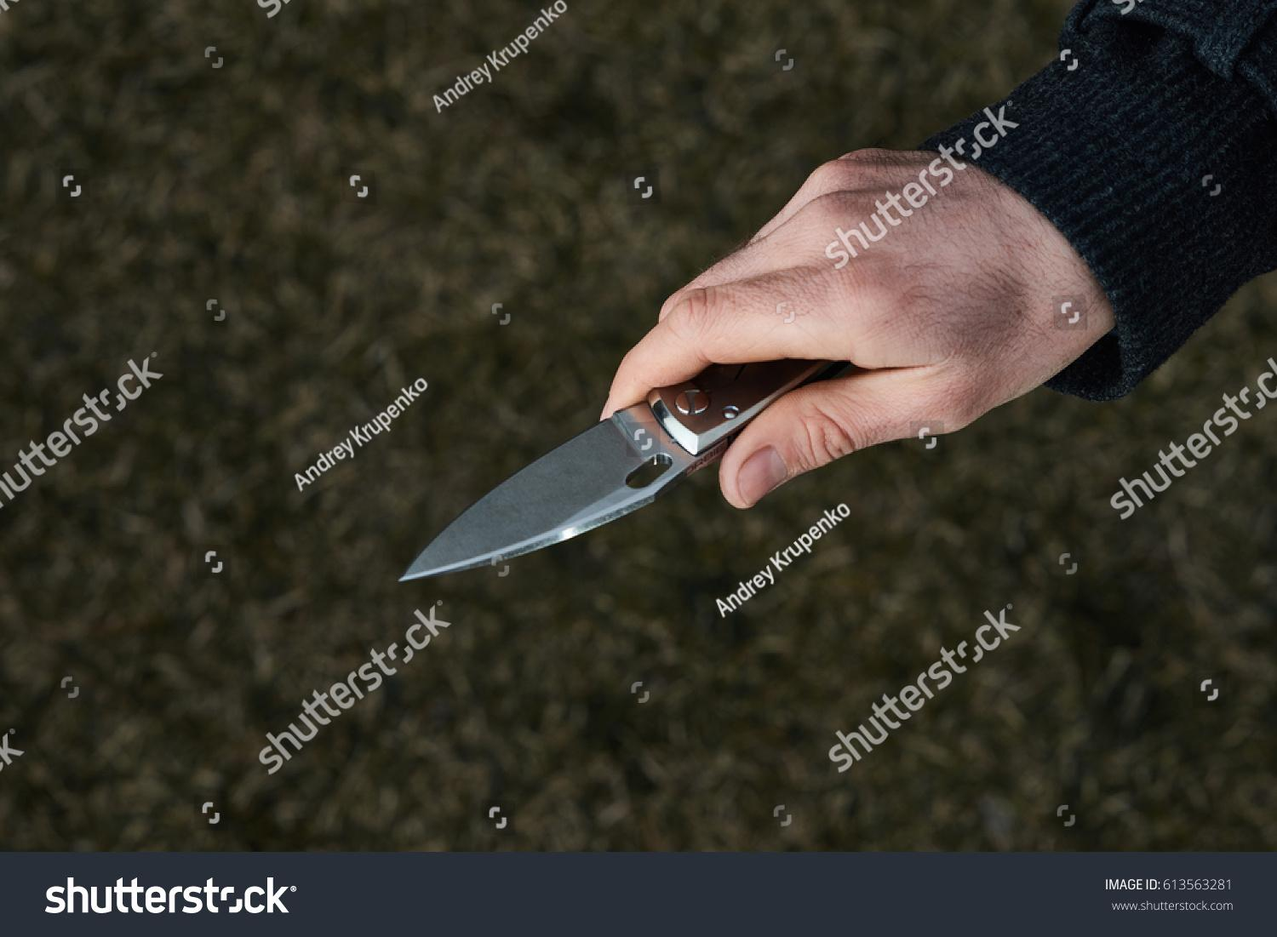Knife: (602, 0, 1277, 508), (613, 148, 1115, 507), (401, 396, 739, 585)
